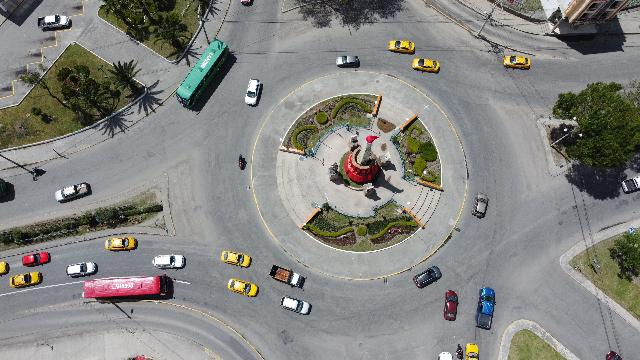Vehiculo: (476, 286, 496, 330), (270, 266, 306, 288), (280, 295, 312, 315), (56, 182, 88, 202), (413, 266, 441, 288), (228, 279, 258, 297), (152, 254, 185, 270), (66, 262, 98, 278), (10, 272, 42, 288), (38, 14, 70, 30), (221, 251, 251, 267), (105, 237, 137, 251), (244, 78, 260, 105), (412, 57, 440, 72), (444, 291, 458, 321), (22, 252, 50, 266), (472, 194, 488, 218), (504, 56, 530, 70), (389, 40, 415, 54), (620, 176, 640, 194), (336, 56, 359, 68), (466, 344, 478, 360), (606, 351, 622, 360), (130, 354, 154, 360), (0, 262, 10, 274), (439, 352, 453, 360), (240, 0, 253, 6)
